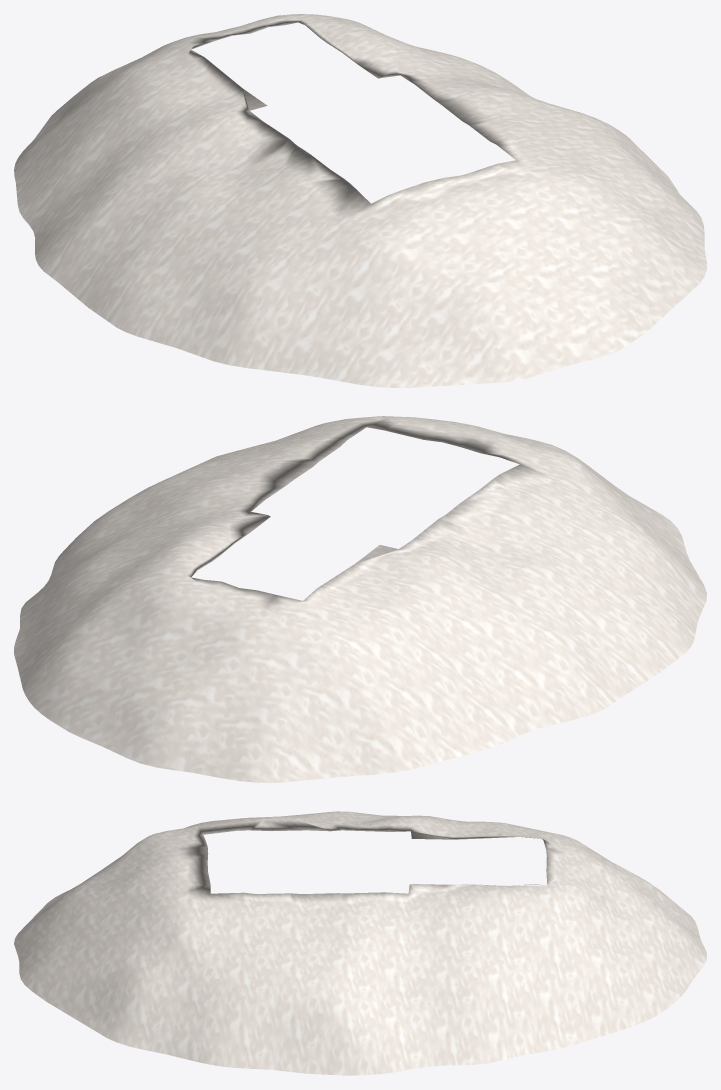
Rendered from mine_tnl_entrance_mound_xmas.glb.
The picture shows the model from 3 angles, top to bottom: view 1: azimuth 30°, elevation 25°; view 2: azimuth 150°, elevation 25°; view 3: azimuth 270°, elevation 25°; orthographic projection. The views are drawn at different scales.
Visible parts, largest first — view 1: mine_tnl_entrance_mound_xmas; view 2: mine_tnl_entrance_mound_xmas; view 3: mine_tnl_entrance_mound_xmas.
Boxes of the visible parts, x1,y1,x2,y2 form: mine_tnl_entrance_mound_xmas: (14, 14, 706, 387); mine_tnl_entrance_mound_xmas: (14, 416, 706, 782); mine_tnl_entrance_mound_xmas: (14, 811, 706, 1075).
Bounding box in the file's own units: 16.44 × 3.09 × 20.12.
1 material, 1 textured.
